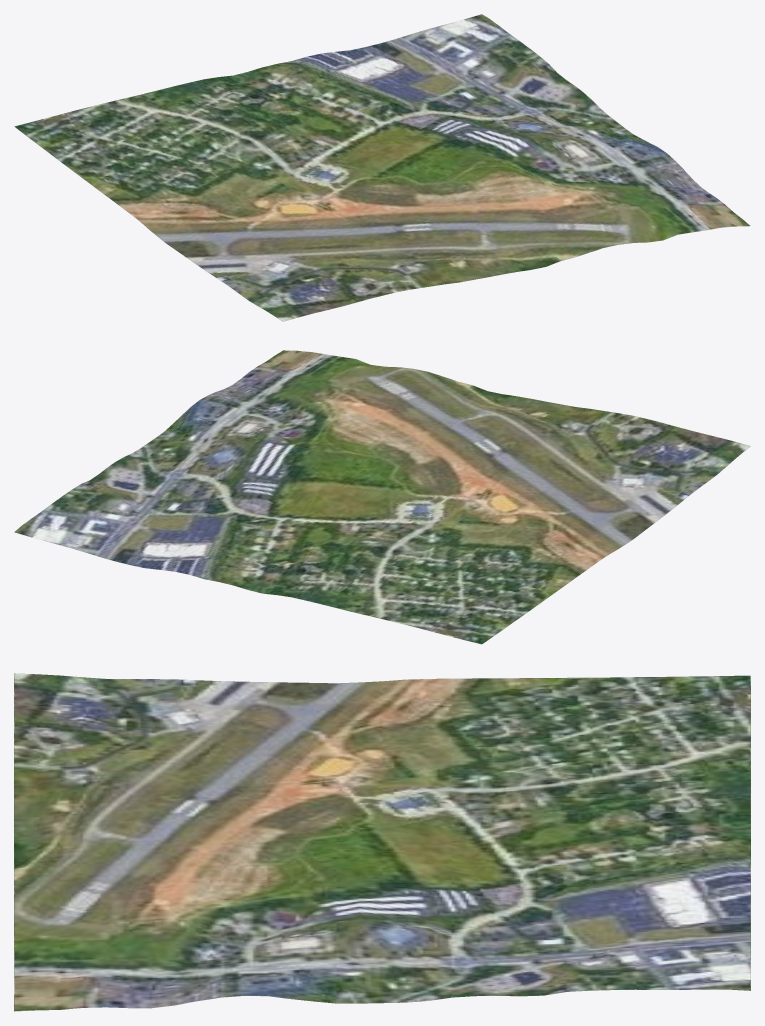
3 renders of one model, top to bottom at view 1: azimuth 30°, elevation 25°; view 2: azimuth 150°, elevation 25°; view 3: azimuth 270°, elevation 25°, orthographic. The views are drawn at different scales.
Bounding box in the file's own units: 975 × 41.6 × 971.
1 material, 1 textured.
